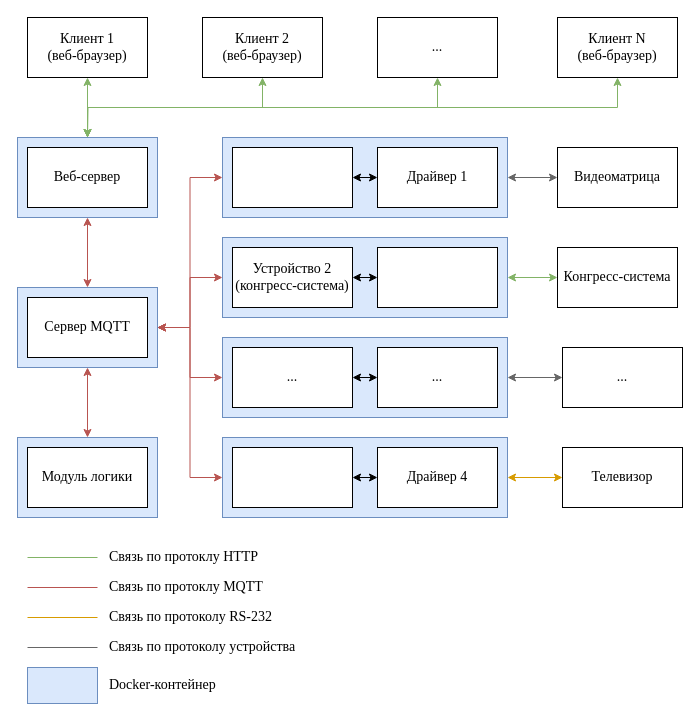
The diagram is 700 pixels wide and 721 high, and some of its shapes have lost their labels. Each missing label, with the box of its shape:
Драйвер 2: (376, 246, 498, 308)
Устройство 1 (видеоматрица): (232, 146, 352, 208)
Утройство N (телевизор): (232, 446, 352, 508)
